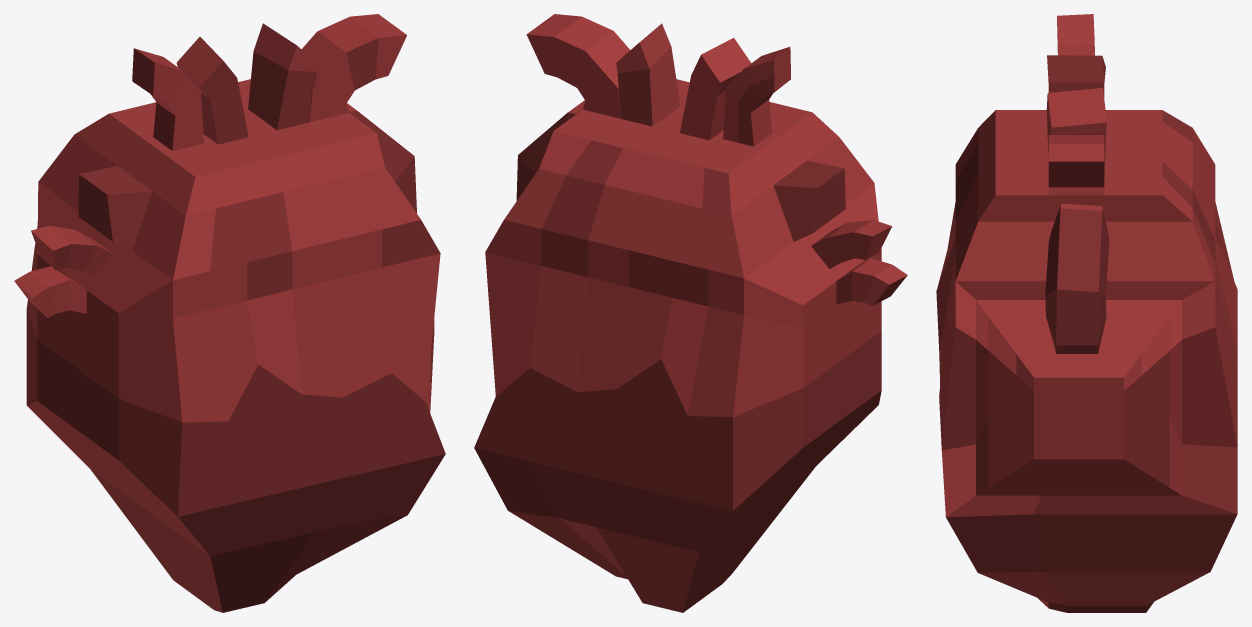
File: heart.glb
The picture shows the model from 3 angles, left to right: view 1: azimuth 30°, elevation 25°; view 2: azimuth 150°, elevation 25°; view 3: azimuth 270°, elevation 25°; orthographic projection. The views are drawn at different scales.
Parts seen in each view (by area): view 1: Cube; view 2: Cube; view 3: Cube.
Part boxes in pixels (x1,y1,x2,y2): Cube: (14, 14, 445, 612); Cube: (474, 14, 907, 612); Cube: (936, 14, 1237, 612).
Bounding box in the file's own units: 2.41 × 3.37 × 1.68.
